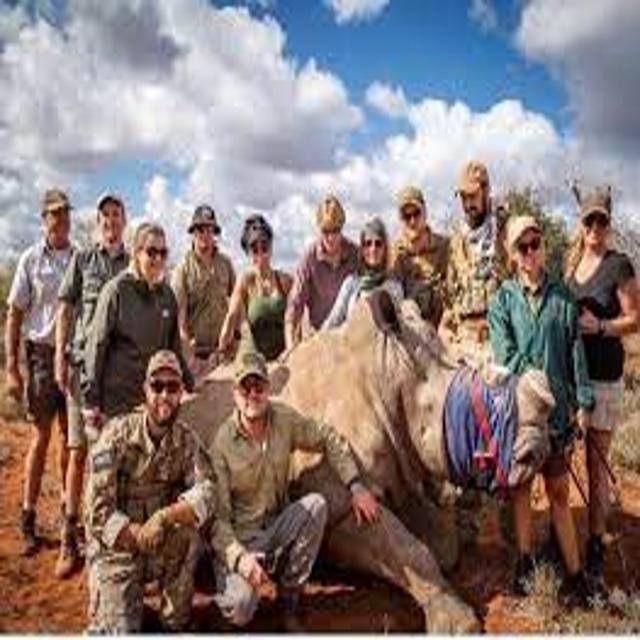Rinoceros: (305, 279, 582, 602)
